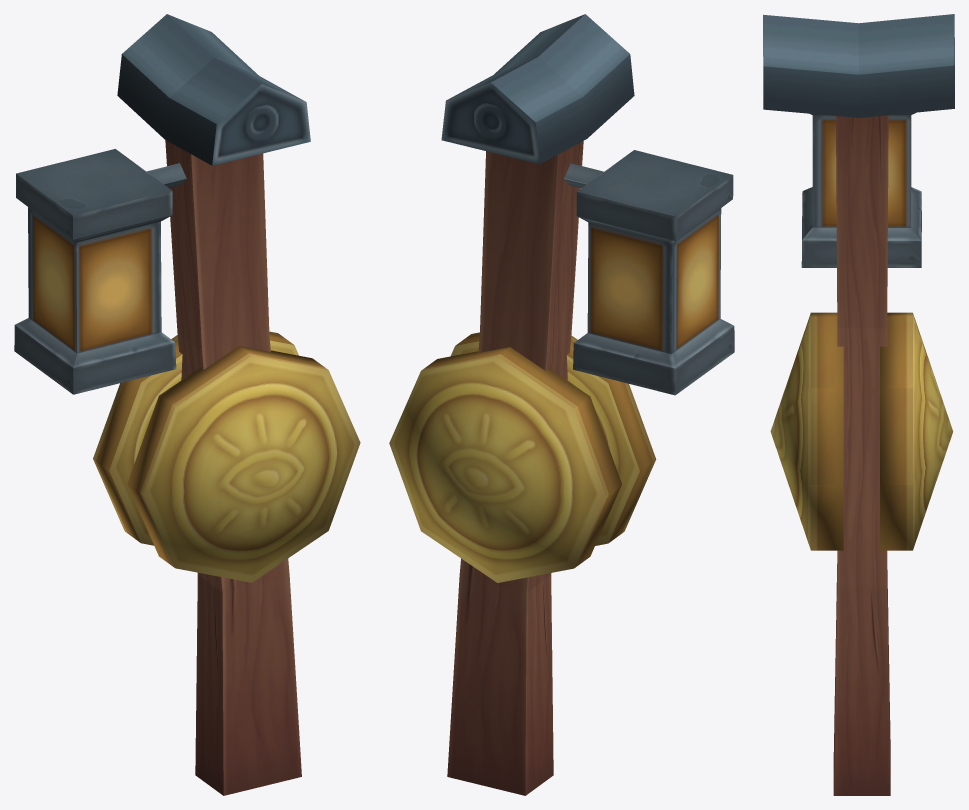
The model's file is lantern_02.fbx.
3 views of the same model, side by side, from view 1: azimuth 30°, elevation 25°; view 2: azimuth 150°, elevation 25°; view 3: azimuth 270°, elevation 25° (orthographic).
Parts seen in each view (by area): view 1: lantern_02:Mesh; view 2: lantern_02:Mesh; view 3: lantern_02:Mesh.
Part boxes in pixels (left/top/right/bottom): lantern_02:Mesh: left=14, top=14, right=360, bottom=795; lantern_02:Mesh: left=389, top=14, right=734, bottom=795; lantern_02:Mesh: left=763, top=14, right=954, bottom=795.
Bounding box in the file's own units: 0.6772 × 1.64 × 0.3824.
Materials: 1 (1 with a texture image).
